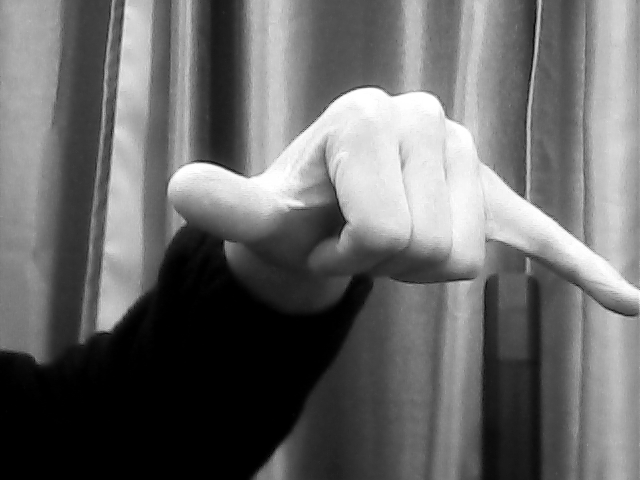aloha: (167, 83, 640, 324)
